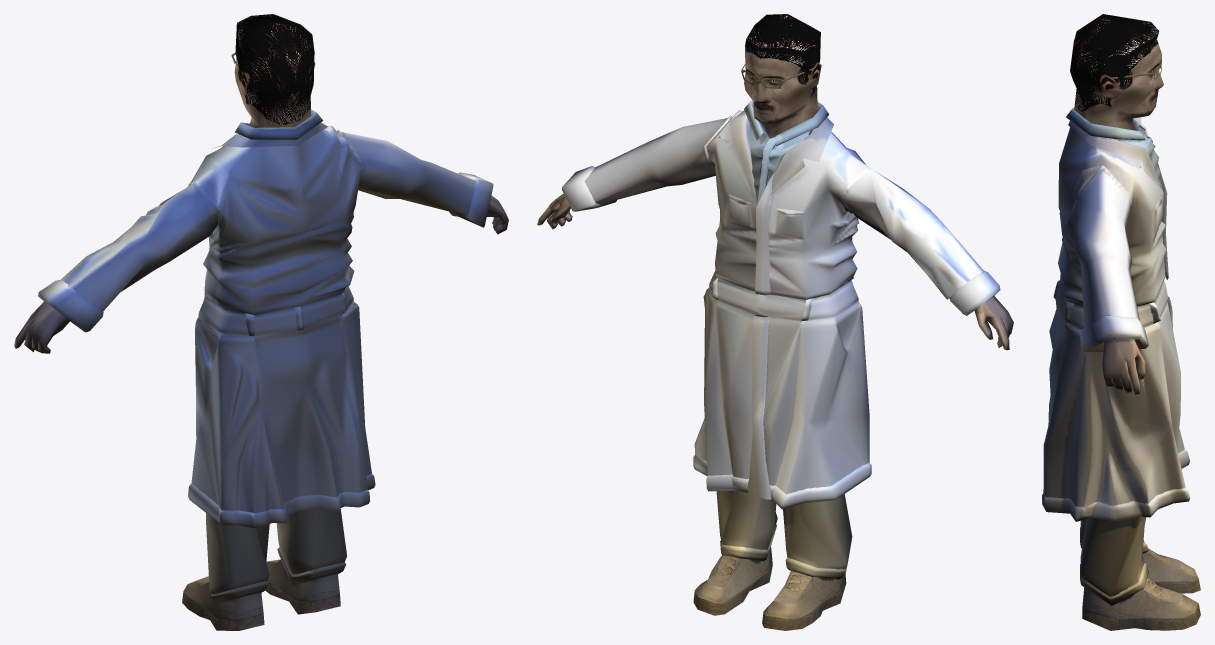
File: scientistHIGH.obj
3 renders of one model, left to right at view 1: azimuth 30°, elevation 25°; view 2: azimuth 150°, elevation 25°; view 3: azimuth 270°, elevation 25°, orthographic. The views are drawn at different scales.
Visible parts, largest first — view 1: Plane.6776_Emed.004; view 2: Plane.6776_Emed.004; view 3: Plane.6776_Emed.004.
Part boxes in pixels (x1,y1,x2,y2): Plane.6776_Emed.004: (14,14,508,630); Plane.6776_Emed.004: (537,14,1013,630); Plane.6776_Emed.004: (1042,14,1200,630).
Bounding box in the file's own units: 1.36 × 1.57 × 0.3883.
Materials: 4 (4 with a texture image).
